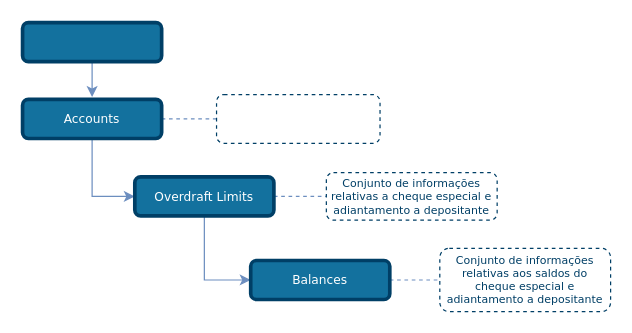
Some shapes in this 632 by 333 pixel diagram are drawn without their labels. The centre of each missing label's shape, as x and y in pixels:
"Conjunto de informações de Conta de depósito à vista" goes at pixel 297 118.
"Data" goes at pixel 91 41.
